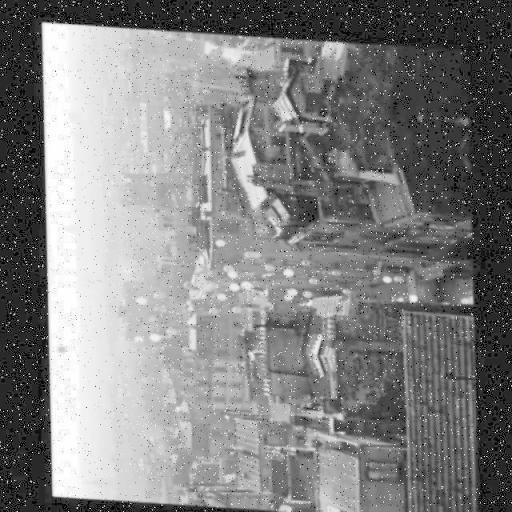balloon: (79, 277, 95, 286), (84, 328, 98, 338), (165, 324, 177, 334), (130, 333, 145, 340), (151, 288, 164, 295), (54, 344, 64, 353), (216, 288, 225, 298), (249, 246, 260, 254), (206, 304, 216, 312), (282, 264, 292, 272), (340, 282, 350, 290), (230, 303, 241, 310), (238, 277, 250, 283), (221, 262, 234, 267), (136, 294, 144, 302), (228, 268, 236, 276), (264, 260, 272, 268), (303, 286, 311, 294), (207, 278, 216, 285), (242, 246, 251, 253), (148, 332, 158, 338), (227, 280, 237, 286), (214, 236, 224, 242), (282, 290, 292, 296), (286, 284, 296, 290), (306, 273, 317, 278), (329, 264, 338, 270), (381, 271, 390, 277), (394, 270, 401, 276), (302, 256, 308, 262), (372, 264, 378, 268)
